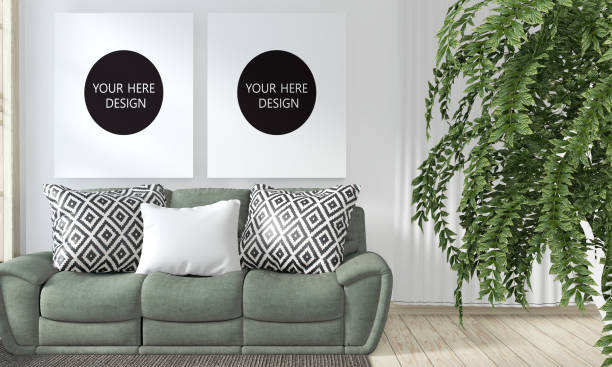large plant: (412, 9, 612, 367)
sofa: (0, 180, 396, 357)
wall art: (203, 9, 350, 181), (51, 9, 196, 180)
